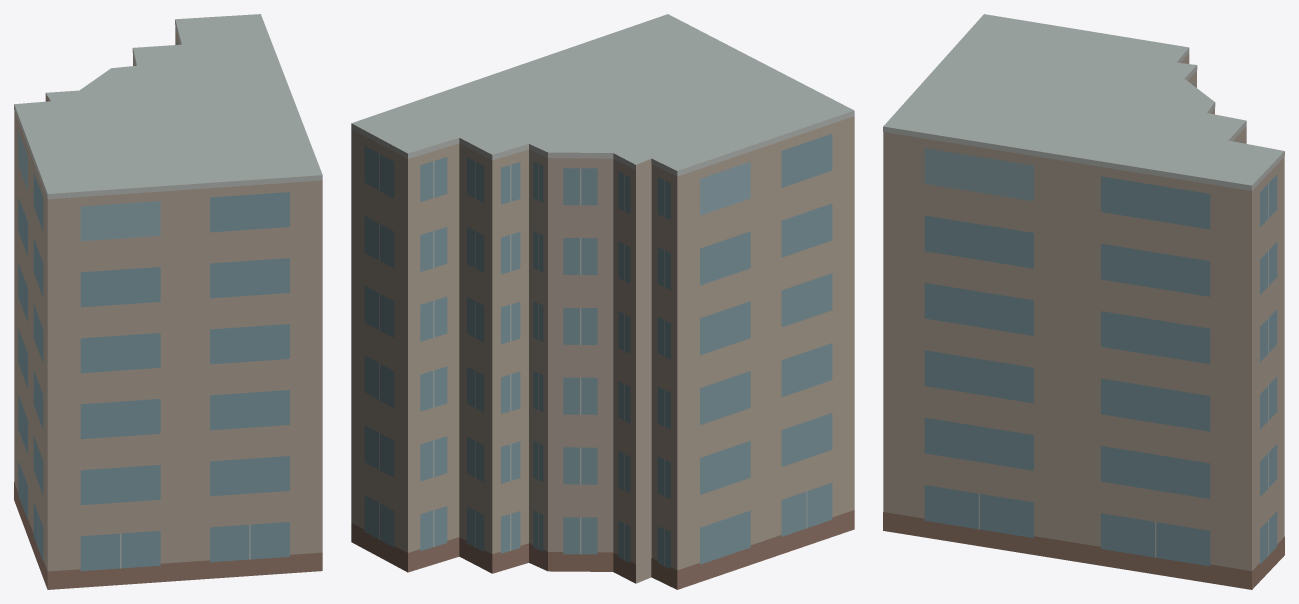
The model's file is survey-upis-32890571.glb.
The picture shows the model from 3 angles, left to right: view 1: azimuth 30°, elevation 25°; view 2: azimuth 150°, elevation 25°; view 3: azimuth 270°, elevation 25°; orthographic projection. The views are drawn at different scales.
Parts seen in each view (by area): view 1: survey-upis-32890571.tmp; view 2: survey-upis-32890571.tmp; view 3: survey-upis-32890571.tmp.
Part boxes in pixels (x1,y1,x2,y2): survey-upis-32890571.tmp: (14, 14, 322, 589); survey-upis-32890571.tmp: (351, 14, 854, 589); survey-upis-32890571.tmp: (883, 14, 1284, 589).
Bounding box in the file's own units: 16.67 × 18.3 × 16.49.
